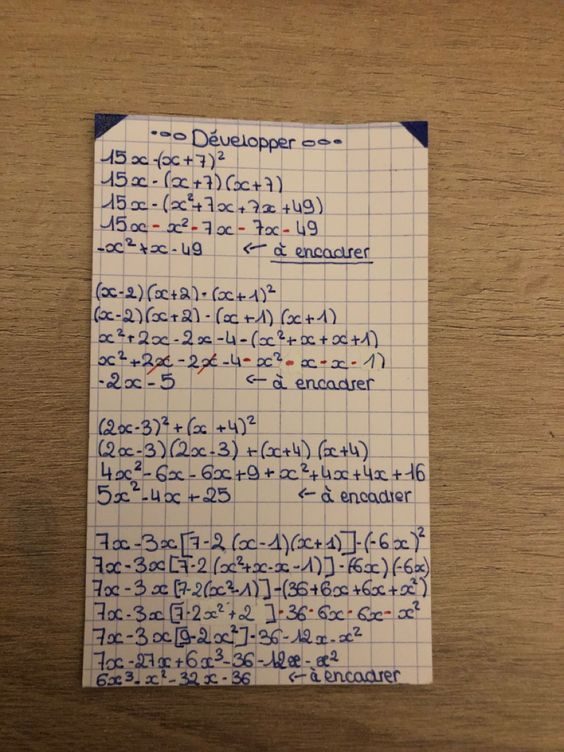page: (98, 126, 423, 686)
